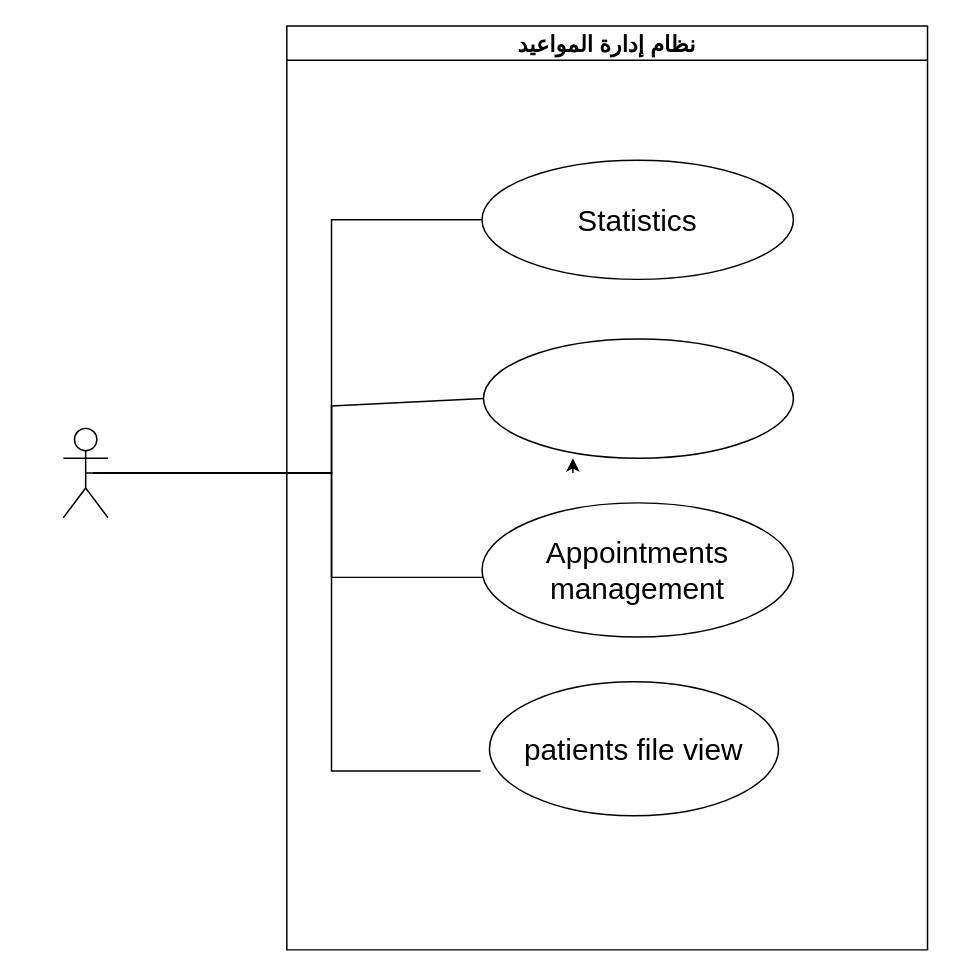
Some shapes in this 954 by 976 pixel diagram are drawn without their labels. Each missing label, with the centre of its shape:
"Avalibility management" goes at point (637, 397).
"Hospital Admin" goes at point (85, 472).
